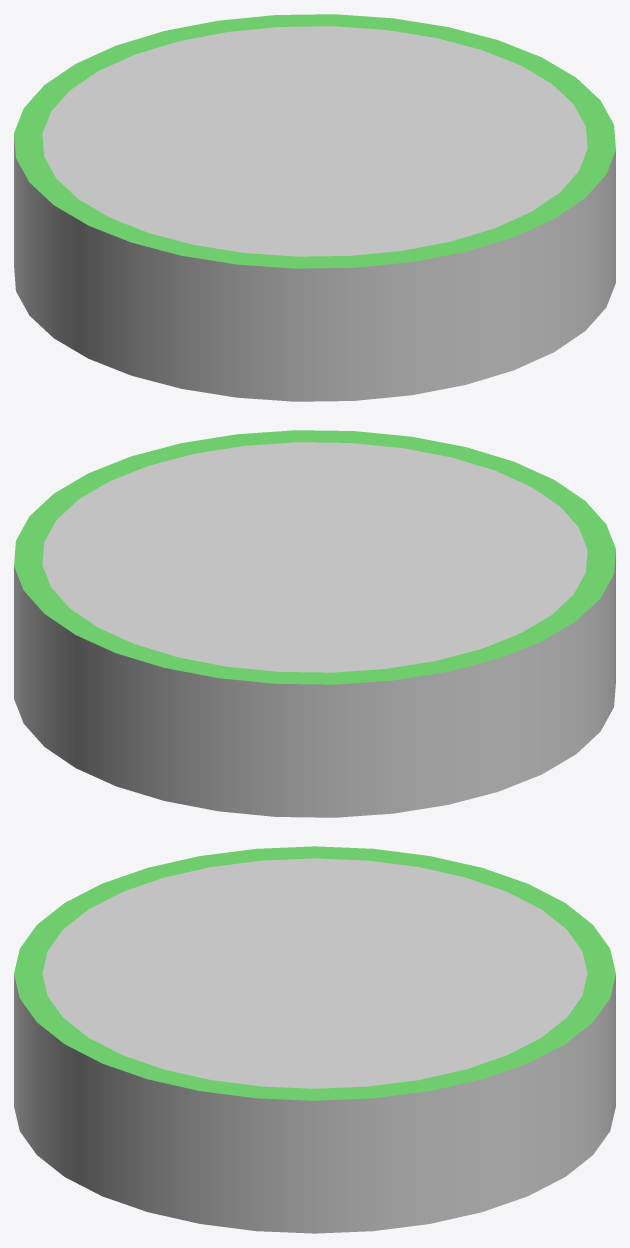
3 views of the same model, one above another, from view 1: azimuth 30°, elevation 25°; view 2: azimuth 150°, elevation 25°; view 3: azimuth 270°, elevation 25° (orthographic).
Parts seen in each view (by area): view 1: Cylinder; view 2: Cylinder; view 3: Cylinder.
Boxes of the visible parts, x1,y1,x2,y2 form: Cylinder: [14, 14, 615, 401]; Cylinder: [14, 430, 615, 817]; Cylinder: [14, 846, 615, 1233].
Bounding box in the file's own units: 2 × 0.487 × 2.
